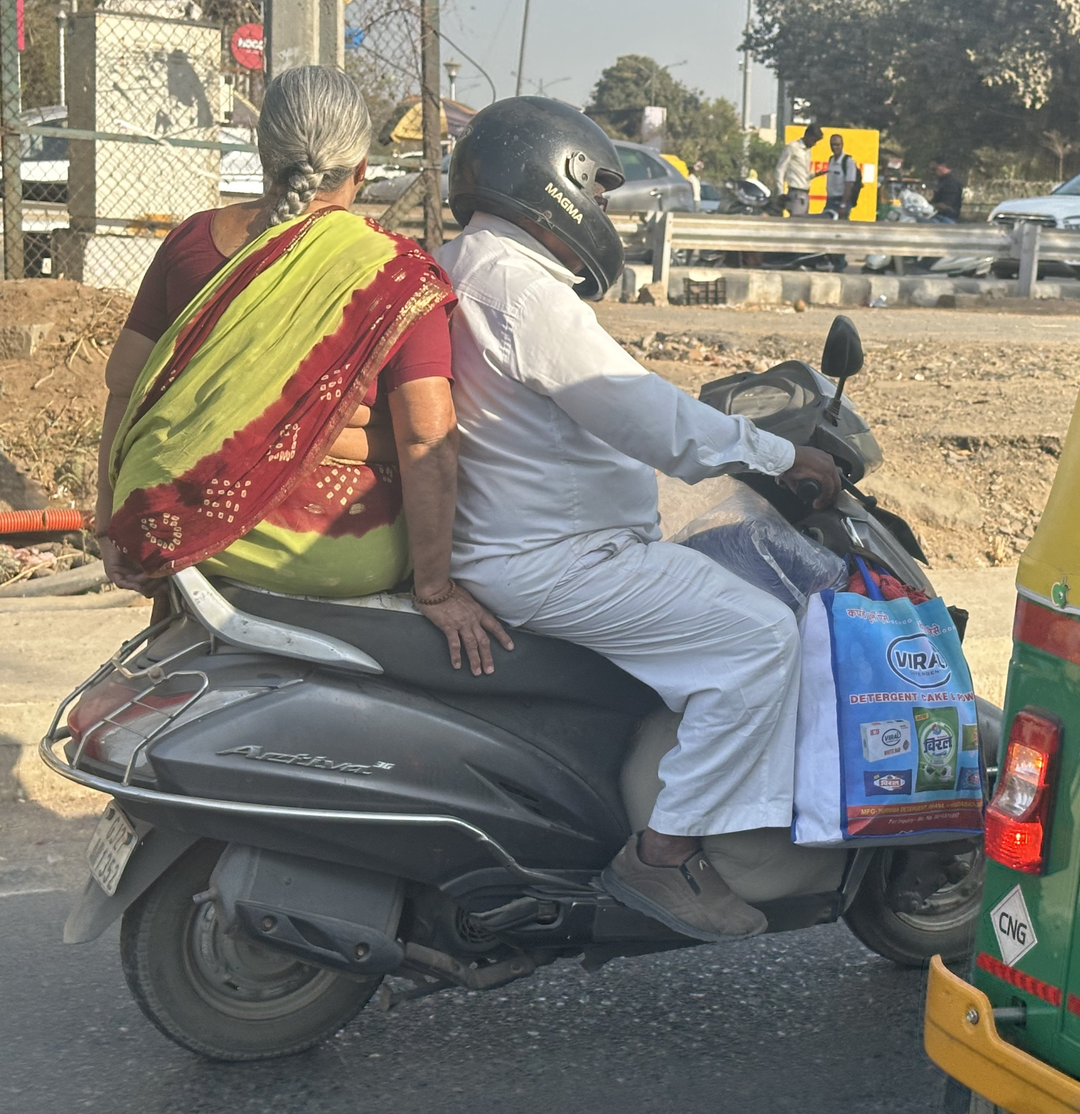BikeWithRider: (24, 36, 1080, 1066)
Helmet: (433, 68, 662, 297)
NoHelmet: (239, 58, 401, 232)
